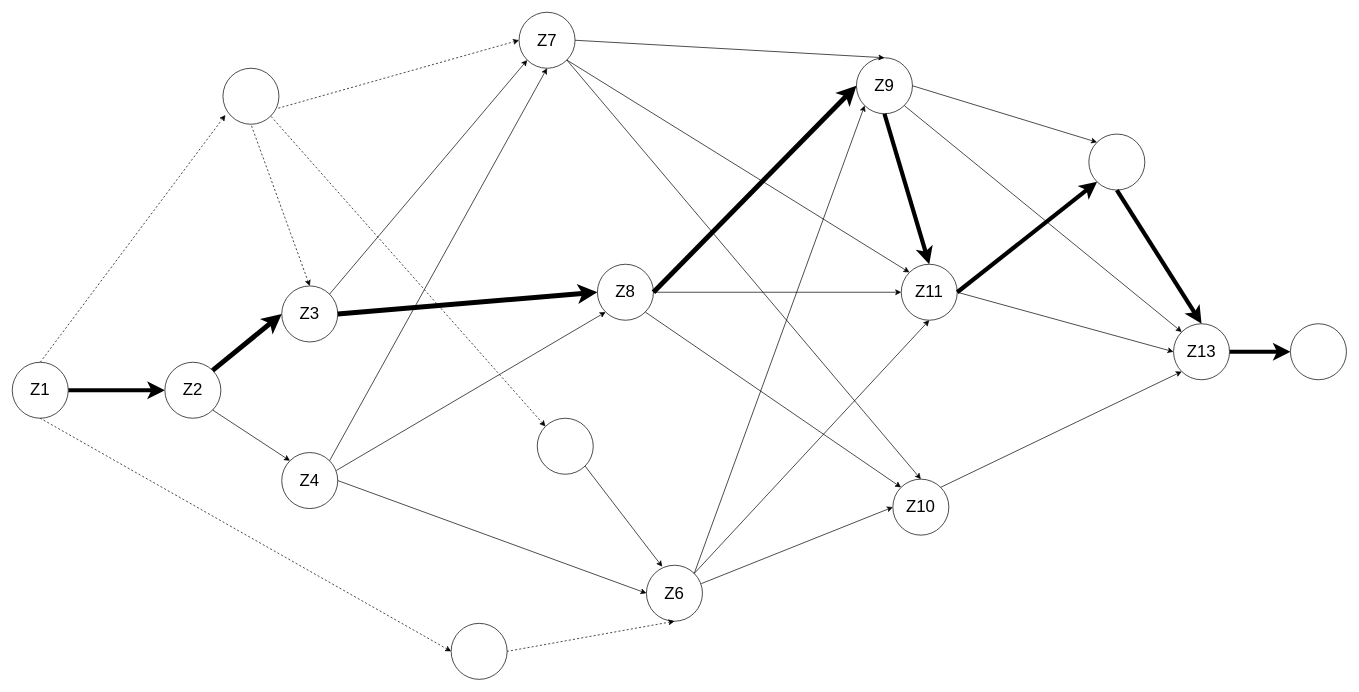
This 1359x692 diagram has some shape labels left out. The centre of each missing label's shape, as x and y in pixels:
"Z12" belongs at point (1116, 161).
"Z14" belongs at point (1318, 351).
"Z15" belongs at point (250, 96).
"Z16" belongs at point (478, 651).
"Z5" belongs at point (565, 446).
